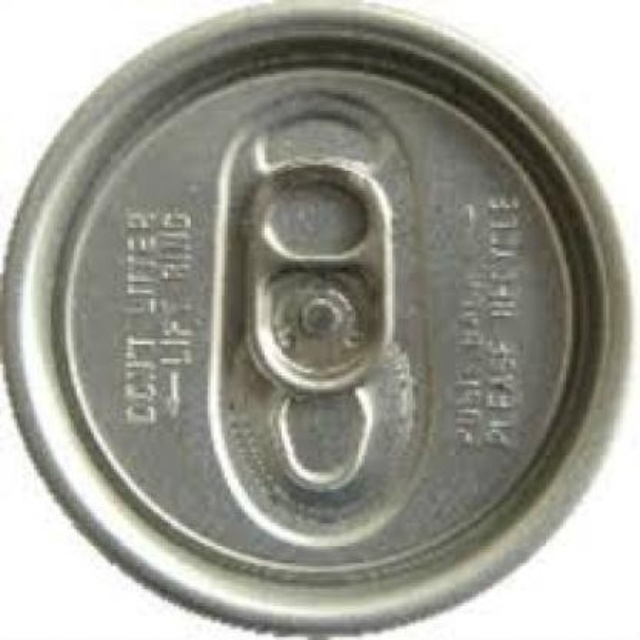trash: (338, 0, 638, 638), (0, 375, 302, 638), (0, 0, 268, 268)
